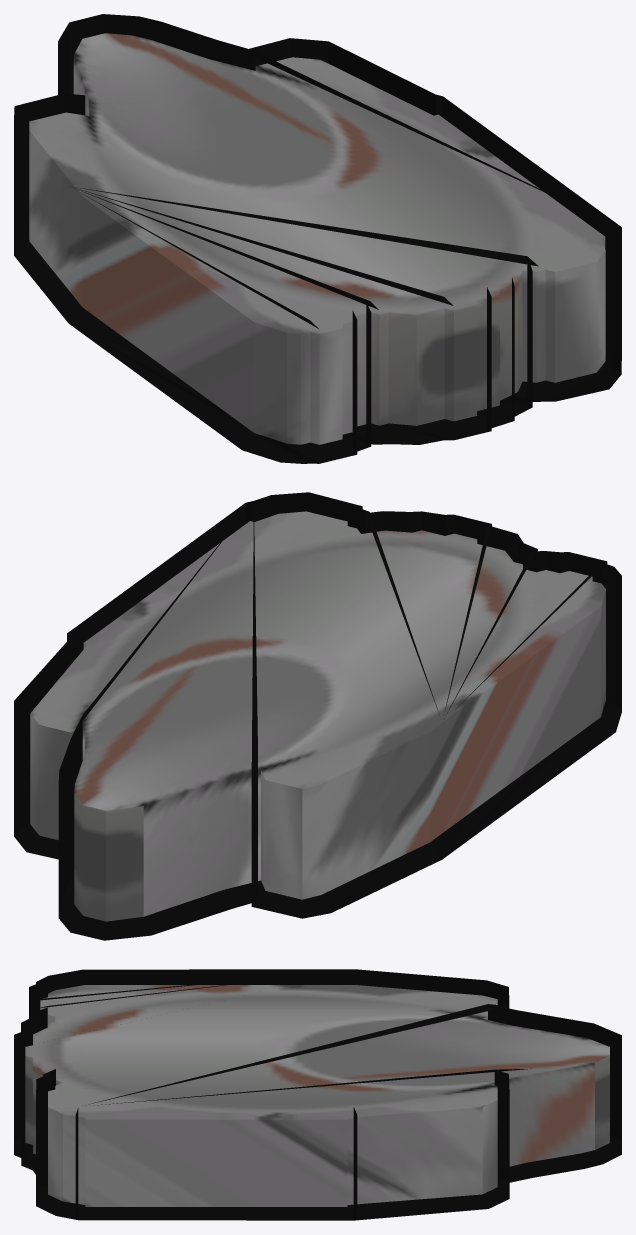
File: Building_AncientTransportPod_Things_Building_AncientLaunchPod_AncientLaunchPodB.glb
The picture shows the model from 3 angles, top to bottom: view 1: azimuth 30°, elevation 25°; view 2: azimuth 150°, elevation 25°; view 3: azimuth 270°, elevation 25°; orthographic projection. The views are drawn at different scales.
Parts seen in each view (by area): view 1: Body, Outline; view 2: Body, Outline; view 3: Body, Outline.
Boxes of the visible parts, x1=… form: Body: x1=29, y1=33, x2=605, y2=444; Outline: x1=14, y1=14, x2=621, y2=463; Body: x1=30, y1=511, x2=605, y2=921; Outline: x1=14, y1=492, x2=621, y2=940; Body: x1=25, y1=985, x2=609, y2=1206; Outline: x1=14, y1=969, x2=621, y2=1220.
Size of the model in its own units: 0.6347 by 0.2392 by 1.13.
Materials: 2 (1 with a texture image).
